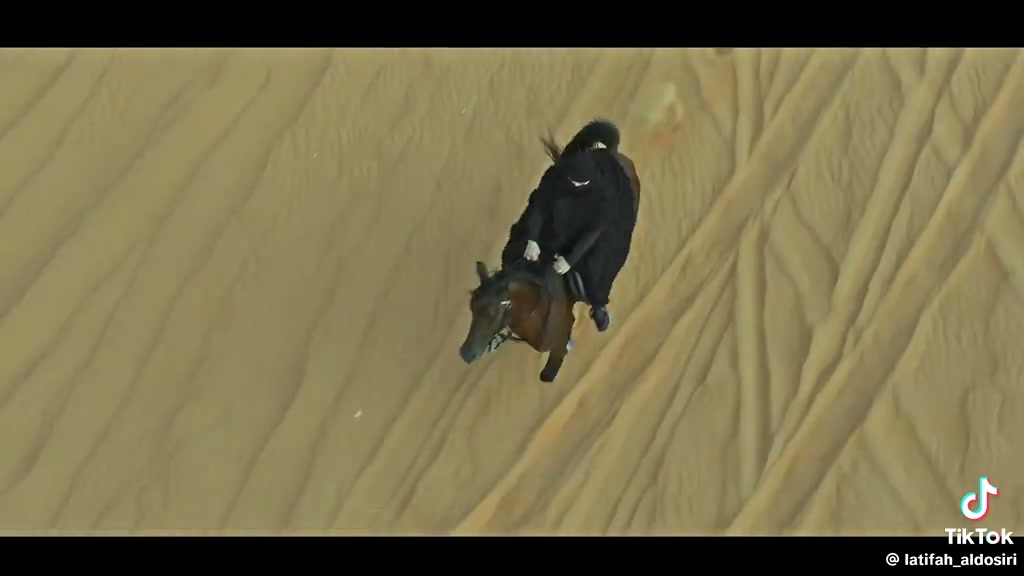animal: (460, 258, 588, 381)
vehicle_track: (464, 50, 1023, 547)
